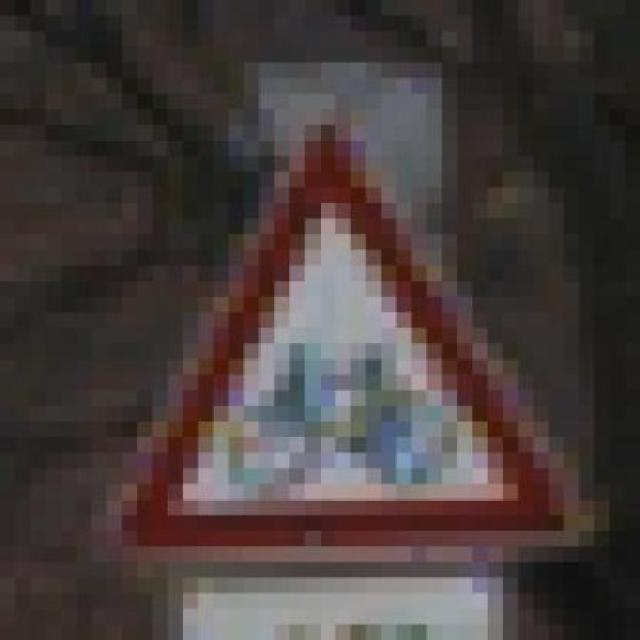CYCLE ROUTE AHEAD WARNING: (45, 108, 626, 578)
